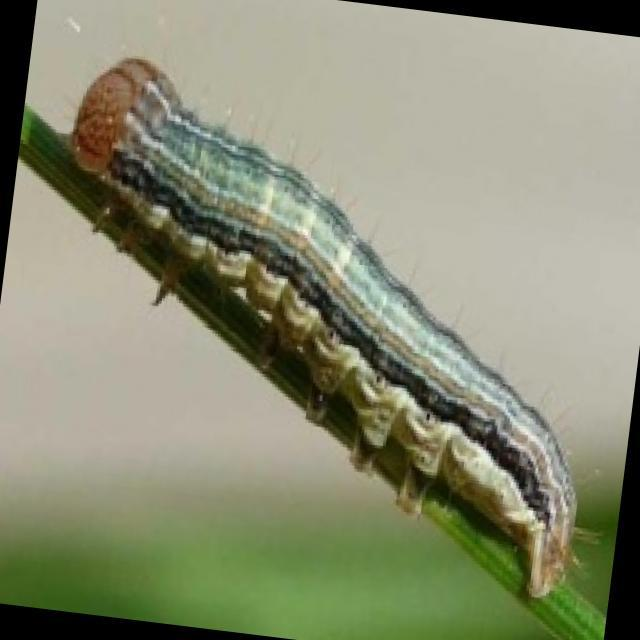Plaga: (2, 25, 640, 622)
